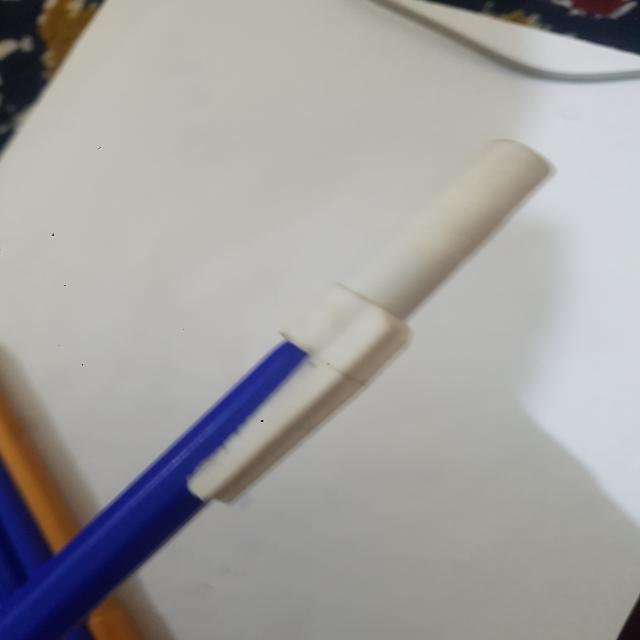general: (0, 84, 598, 640)
